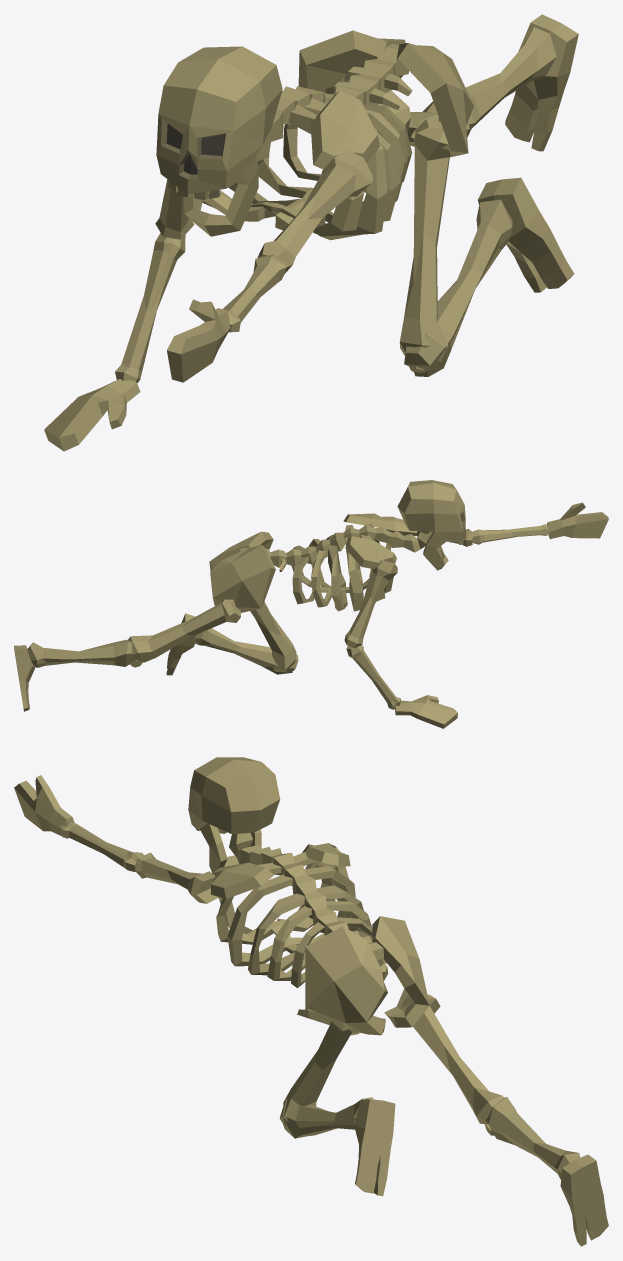
File: Sceleton_6.fbx
3 views of the same model, one above another, from view 1: azimuth 30°, elevation 25°; view 2: azimuth 150°, elevation 25°; view 3: azimuth 270°, elevation 25° (orthographic). The views are drawn at different scales.
Visible parts, largest first — view 1: Sceleton_6; view 2: Sceleton_6; view 3: Sceleton_6.
Boxes of the visible parts, x1,y1,x2,y2 form: Sceleton_6: (44, 14, 578, 451); Sceleton_6: (14, 480, 608, 728); Sceleton_6: (14, 757, 608, 1246).
Bounding box in the file's own units: 167 × 82.5 × 153.
